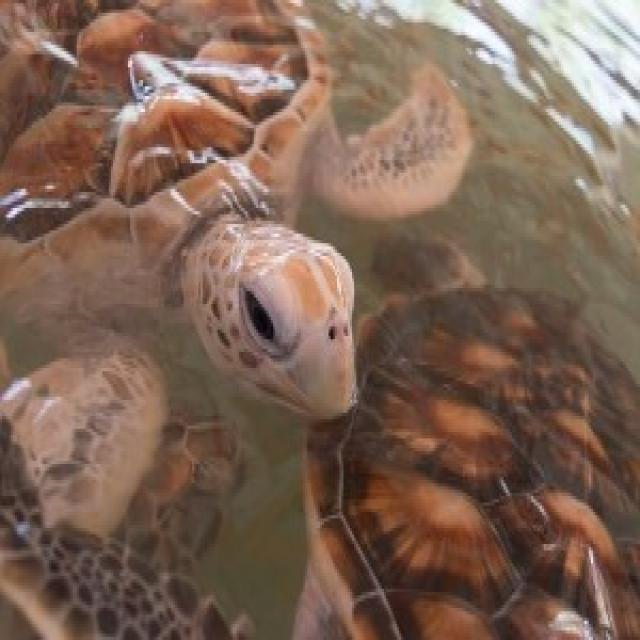Sea turtle: (6, 18, 384, 450), (388, 291, 630, 640)
